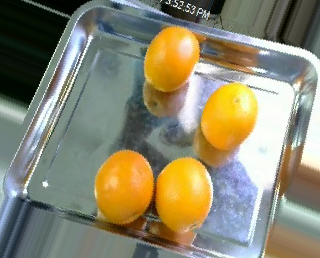Orange: (94, 148, 154, 226), (155, 156, 212, 233), (200, 80, 258, 151), (144, 25, 200, 92)
